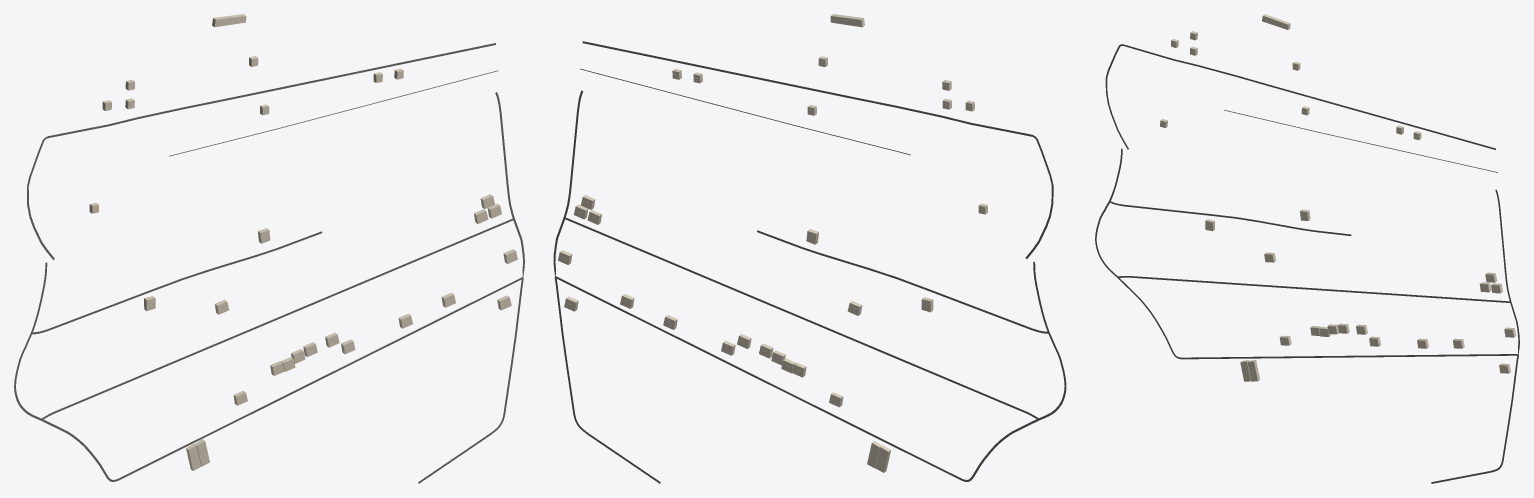
Rendered from irbid_3592_3253.glb.
The picture shows the model from 3 angles, left to right: view 1: azimuth 30°, elevation 25°; view 2: azimuth 150°, elevation 25°; view 3: azimuth 330°, elevation 25°; orthographic projection. The views are drawn at different scales.
Parts seen in each view (by area): view 1: Road, Road .005, Road .003, Road .002, Road .001; view 2: Road, Road .005, Road .003, Road .002, Road .001; view 3: Road, Road .005, Road .003, Road .002.
Boxes of the visible parts, left/top/right/bottom form: Road: left=14, top=92, right=524, bottom=481; Road .005: left=27, top=43, right=495, bottom=259; Road .003: left=41, top=218, right=513, bottom=419; Road .002: left=31, top=231, right=322, bottom=334; Road .001: left=418, top=278, right=523, bottom=483; Road: left=553, top=90, right=1066, bottom=481; Road .005: left=582, top=41, right=1053, bottom=258; Road .003: left=565, top=217, right=1038, bottom=419; Road .002: left=757, top=230, right=1048, bottom=333; Road .001: left=554, top=277, right=660, bottom=483; Road: left=1095, top=148, right=1519, bottom=359; Road .005: left=1105, top=44, right=1495, bottom=149; Road .003: left=1117, top=276, right=1510, bottom=302; Road .002: left=1110, top=201, right=1351, bottom=235.
Bounding box in the file's own units: 837 × 804 × 8.7.
